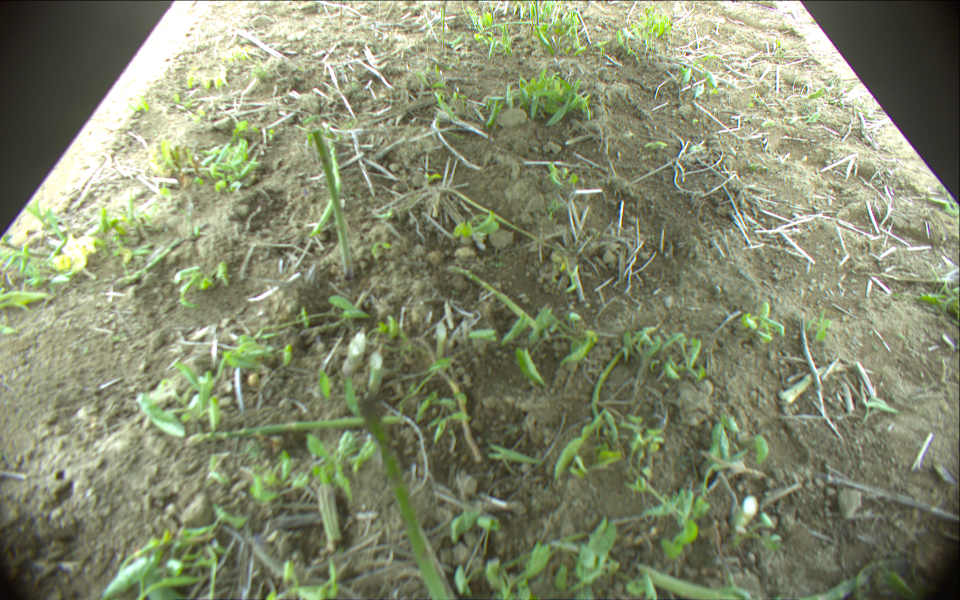aspa: (355, 395, 459, 600), (423, 185, 565, 250), (183, 416, 407, 448), (312, 130, 355, 273), (454, 267, 542, 332), (308, 139, 341, 242)
